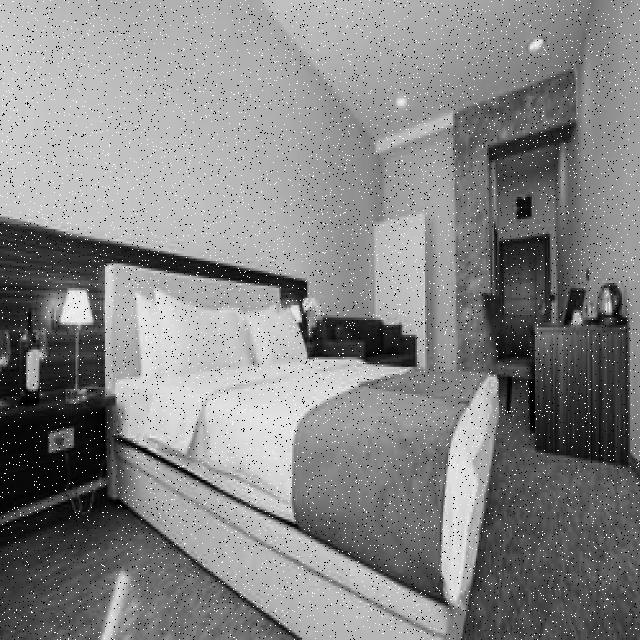bed: (104, 264, 508, 613)
